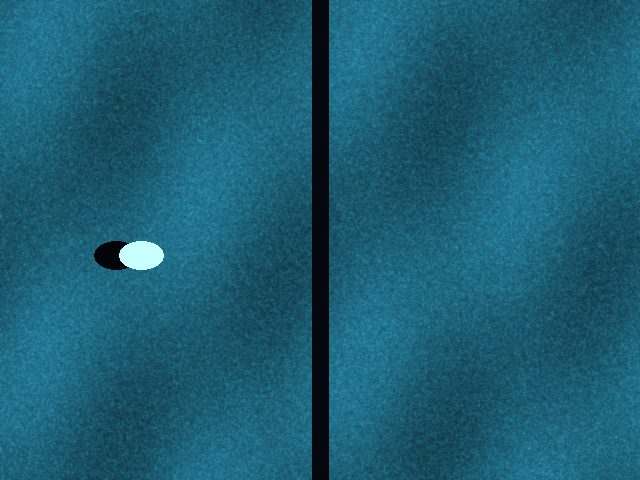Bottle: (119, 241, 163, 269)
